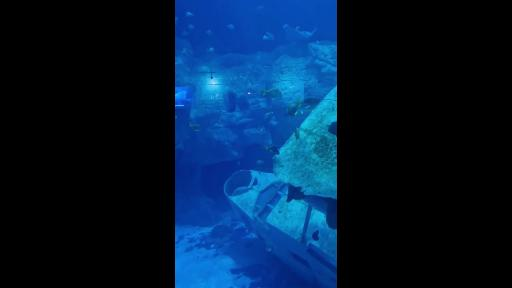Fish: (286, 184, 337, 229), (283, 25, 316, 42), (286, 184, 305, 202), (286, 98, 303, 118), (263, 85, 282, 99), (328, 121, 337, 137), (303, 98, 322, 105), (265, 146, 279, 154), (189, 123, 200, 131), (312, 231, 319, 241), (264, 111, 274, 118), (266, 32, 274, 40), (267, 244, 274, 252), (295, 128, 299, 139), (182, 30, 189, 36), (188, 24, 194, 30), (206, 30, 212, 35), (260, 126, 265, 132), (207, 48, 214, 52), (257, 160, 264, 164), (227, 25, 234, 29), (186, 12, 193, 16), (175, 17, 178, 23), (263, 36, 268, 39), (296, 26, 299, 30), (305, 106, 310, 108)
